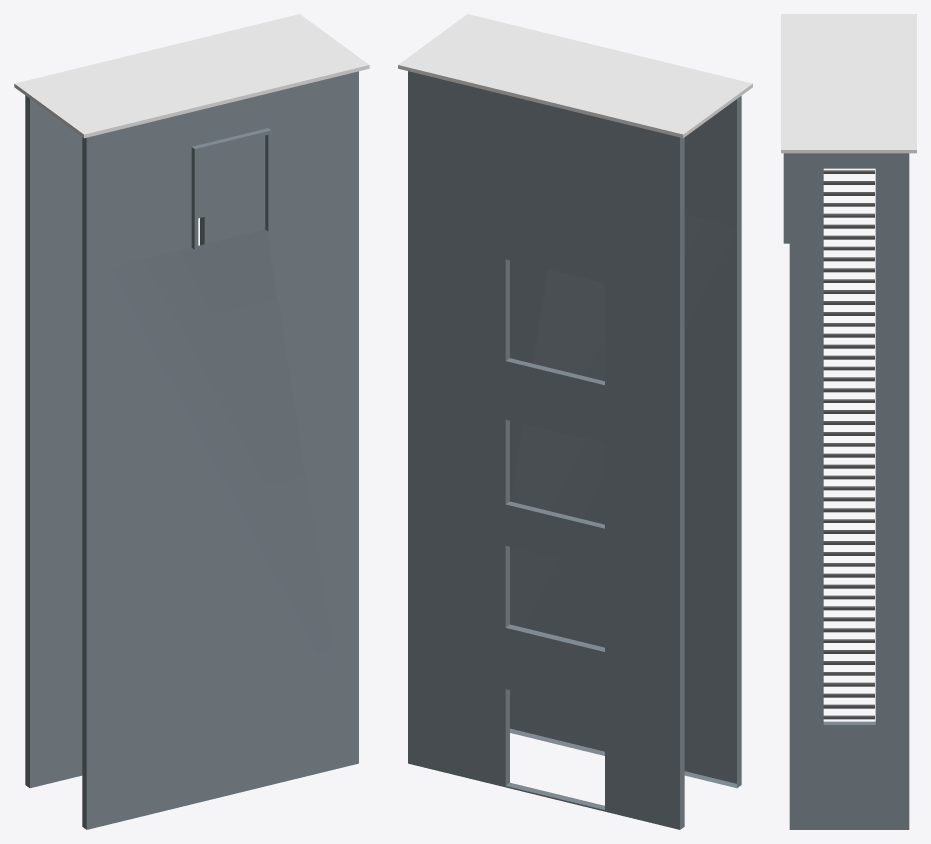
The model's file is ascenseur.FBX.
The picture shows the model from 3 angles, left to right: view 1: azimuth 30°, elevation 25°; view 2: azimuth 150°, elevation 25°; view 3: azimuth 270°, elevation 25°; orthographic projection. The views are drawn at different scales.
Visible parts, largest first — view 1: Rectangle63; view 2: Rectangle63; view 3: Rectangle63.
Boxes of the visible parts, box(x1,y1,x2,y2) form: Rectangle63: box(14, 14, 369, 829); Rectangle63: box(398, 14, 752, 829); Rectangle63: box(781, 14, 916, 829).
Size of the model in its own units: 20423 by 47885 by 8636.
